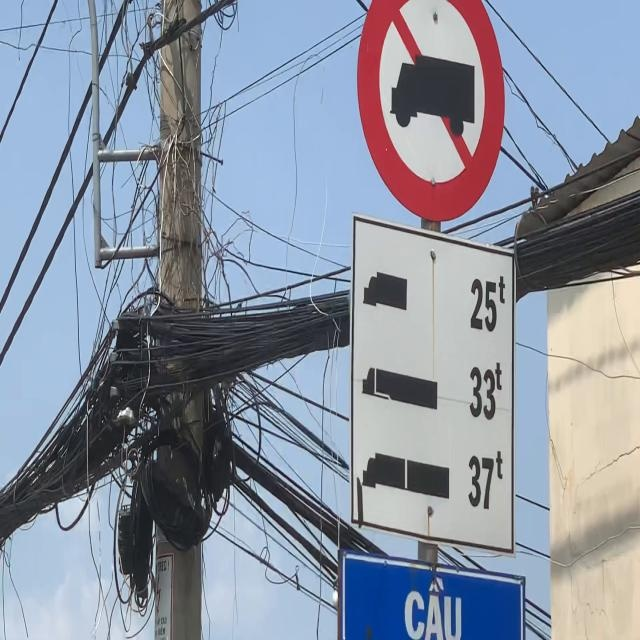bien_cam: (355, 0, 500, 220)
